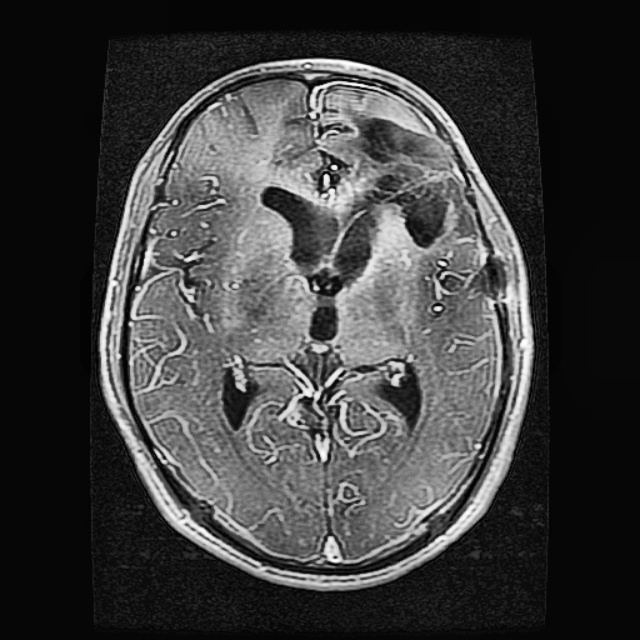Glioma: (349, 113, 459, 252)
